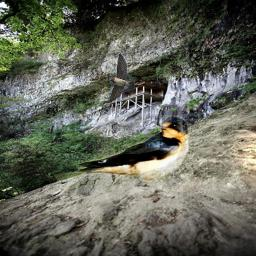Swallow: (54, 115, 191, 186), (109, 53, 135, 102)
